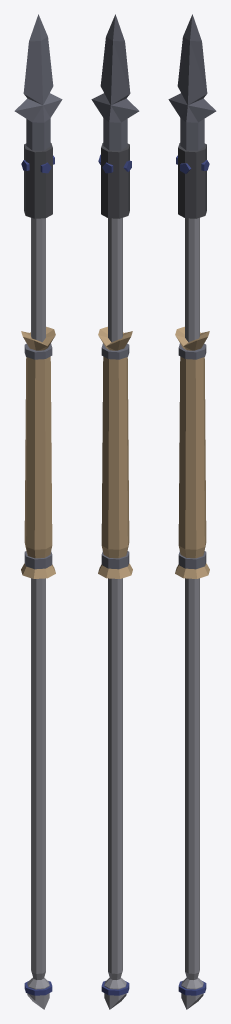
File: Lanca_A01.fbx
The picture shows the model from 3 angles, left to right: view 1: azimuth 30°, elevation 25°; view 2: azimuth 150°, elevation 25°; view 3: azimuth 330°, elevation 25°; orthographic projection.
Visible parts, largest first — view 1: polearm_1; view 2: polearm_1; view 3: polearm_1.
Part boxes in pixels (x1,y1,x2,y2): polearm_1: [14, 14, 62, 1009]; polearm_1: [91, 14, 139, 1009]; polearm_1: [168, 14, 216, 1009].
Size of the model in its own units: 10.4 by 205 by 6.84.
